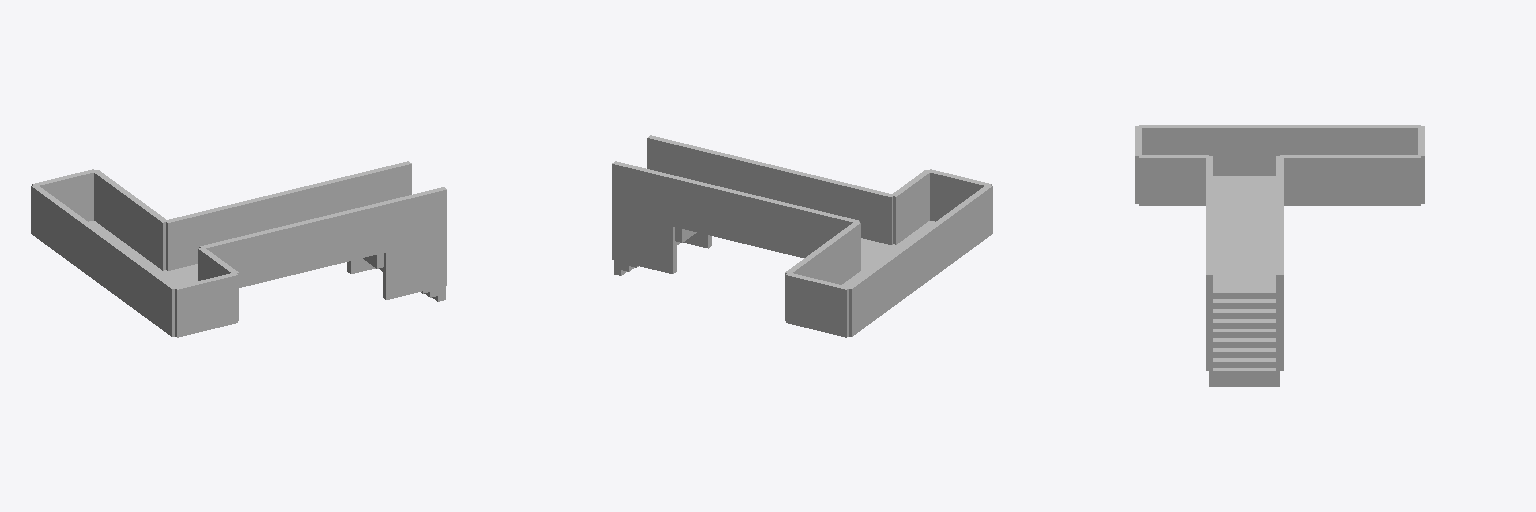
The model's file is level7.obj.
3 views of the same model, side by side, from view 1: azimuth 30°, elevation 25°; view 2: azimuth 150°, elevation 25°; view 3: azimuth 270°, elevation 25° (orthographic).
Parts seen in each view (by area): view 1: Plane.017_Plane.018, staircase1_Cube.006; view 2: Plane.017_Plane.018, staircase1_Cube.006; view 3: Plane.017_Plane.018, staircase1_Cube.006.
Part boxes in pixels (x1,y1,x2,y2): Plane.017_Plane.018: (31,161,446,337); staircase1_Cube.006: (89,221,445,301); Plane.017_Plane.018: (612,135,992,337); staircase1_Cube.006: (614,221,934,285); Plane.017_Plane.018: (1135,125,1424,370); staircase1_Cube.006: (1209,176,1279,386).
Bounding box in the file's own units: 20.2 × 7 × 16.4.